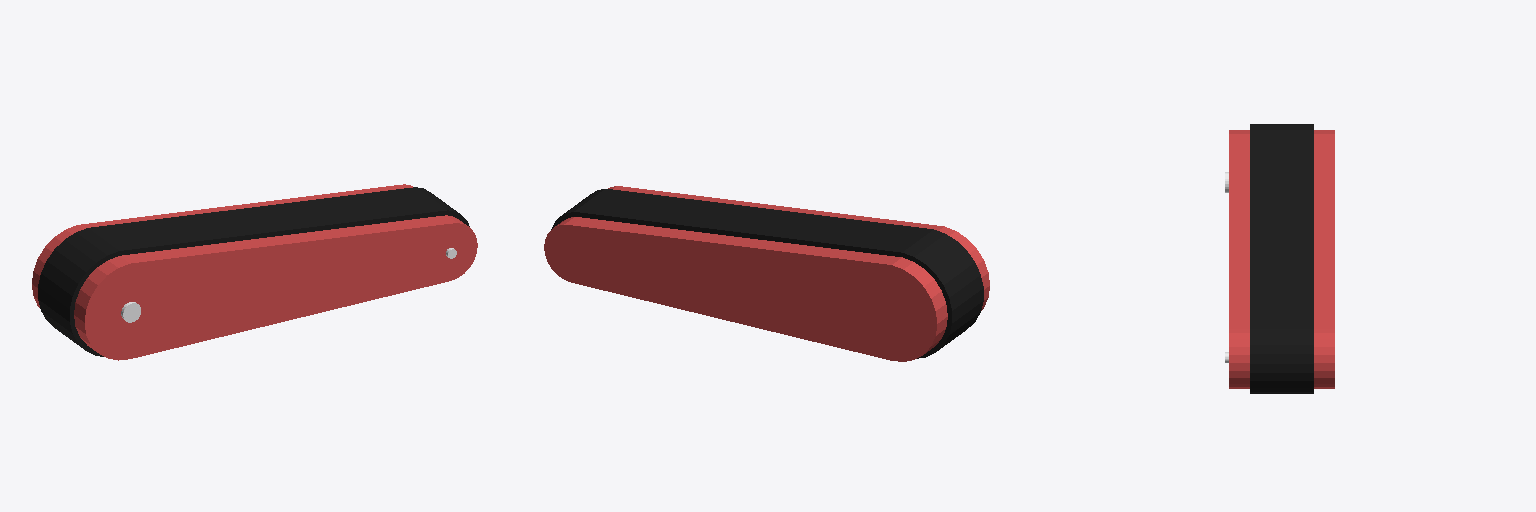
The model's file is flipperLeft.obj.
3 renders of one model, left to right at view 1: azimuth 30°, elevation 25°; view 2: azimuth 150°, elevation 25°; view 3: azimuth 270°, elevation 25°, orthographic.
Visible parts, largest first — view 1: Body1; view 2: Body1; view 3: Body1.
Part boxes in pixels (bbox=[...]): Body1: bbox=[32, 184, 477, 360]; Body1: bbox=[544, 186, 989, 361]; Body1: bbox=[1225, 124, 1334, 393].
Bounding box in the file's own units: 2.2 × 0.55 × 0.52.